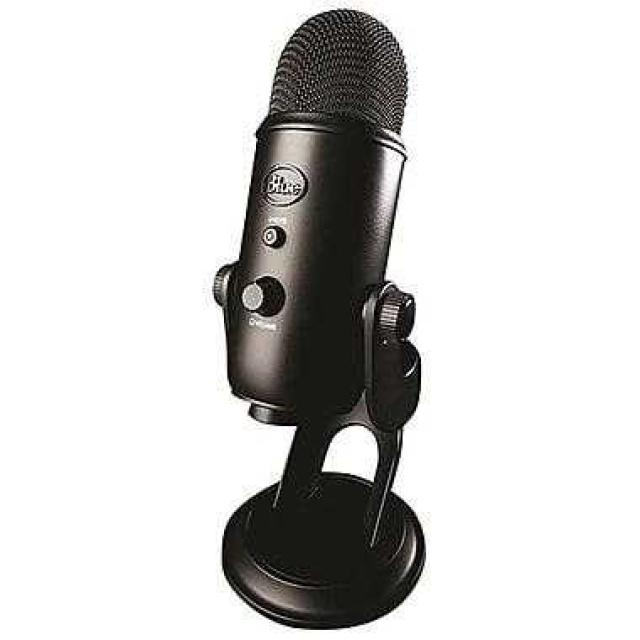microphone: (224, 9, 411, 422)
